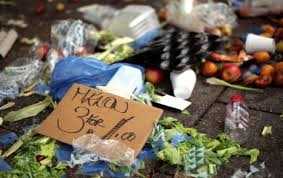kitchen_waste: (153, 115, 259, 173), (4, 136, 62, 178), (218, 62, 243, 83), (197, 59, 219, 79)
paper: (35, 79, 169, 155)
plastic: (47, 51, 154, 104), (130, 21, 220, 75), (45, 20, 104, 66), (69, 134, 138, 171), (109, 2, 164, 39), (1, 57, 46, 101), (220, 92, 255, 147), (166, 68, 200, 99), (243, 33, 279, 55)
